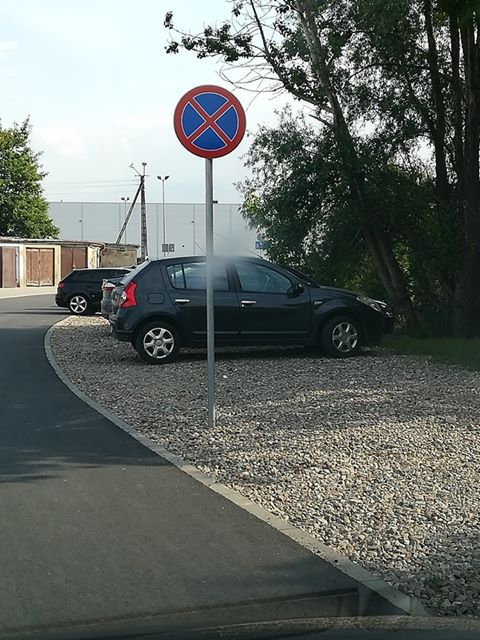no_stopping_sign: (174, 85, 246, 160)
